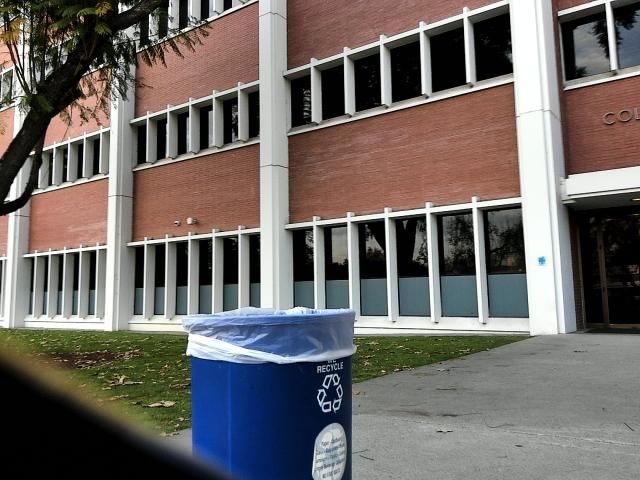trashcan_open: (174, 296, 365, 480)
